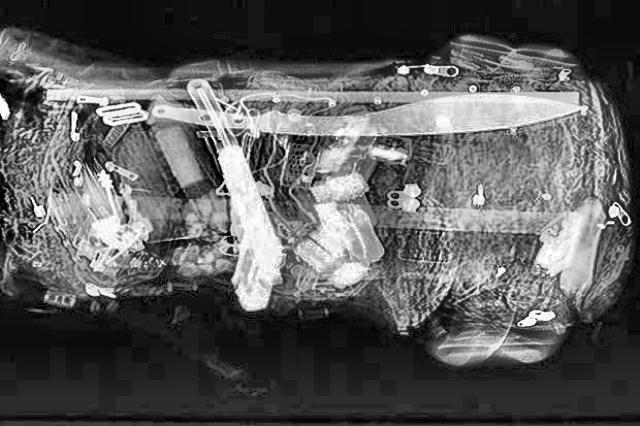Gun: (187, 77, 287, 312)
